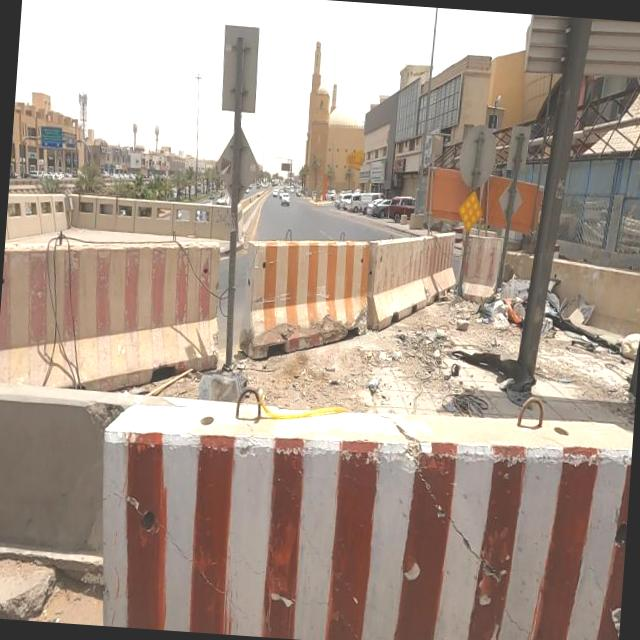debris: (467, 224, 614, 403), (430, 226, 564, 386), (324, 294, 452, 434), (530, 249, 637, 395), (408, 328, 519, 451)
